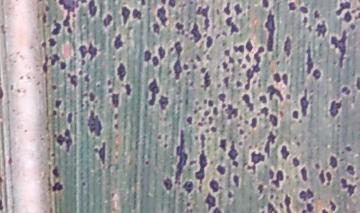tarspot: (173, 125, 188, 183), (245, 47, 264, 90), (329, 29, 348, 69), (263, 8, 277, 56), (85, 108, 105, 138), (50, 127, 75, 151), (171, 40, 183, 85), (92, 138, 110, 167), (247, 148, 264, 175), (60, 1, 78, 26), (146, 76, 159, 109), (193, 151, 208, 179), (298, 86, 311, 118), (197, 4, 211, 32), (265, 83, 285, 102), (78, 41, 99, 59), (340, 177, 358, 197), (113, 59, 129, 81), (328, 97, 344, 119), (281, 32, 294, 59), (241, 92, 256, 115), (263, 130, 276, 155), (268, 169, 285, 188), (304, 43, 314, 75), (297, 186, 317, 202), (224, 16, 239, 37), (189, 22, 201, 48), (117, 5, 131, 27), (224, 102, 241, 120), (47, 179, 65, 195), (111, 31, 124, 52), (314, 21, 328, 40), (227, 139, 240, 159), (49, 18, 62, 38), (208, 177, 223, 194), (87, 1, 99, 22), (157, 94, 170, 112), (232, 1, 245, 19), (332, 1, 350, 14), (157, 6, 168, 27), (327, 152, 339, 171), (343, 162, 358, 177), (297, 165, 310, 182), (283, 193, 294, 213), (343, 10, 357, 25), (109, 92, 122, 108), (101, 12, 114, 28), (200, 72, 212, 89), (203, 194, 217, 208), (264, 199, 278, 213), (214, 162, 227, 177), (230, 173, 243, 188), (248, 115, 260, 131), (122, 80, 133, 97), (279, 144, 290, 161), (203, 33, 214, 50), (182, 180, 195, 194), (173, 19, 186, 33), (132, 7, 144, 22), (67, 71, 78, 87), (270, 69, 281, 85), (255, 180, 265, 197), (56, 59, 69, 72), (231, 42, 245, 54), (161, 176, 172, 191), (268, 114, 279, 129), (47, 35, 58, 50), (301, 202, 316, 213), (157, 43, 166, 61), (328, 197, 338, 213), (49, 164, 61, 177), (51, 97, 63, 110), (285, 1, 298, 13), (150, 20, 161, 34), (86, 90, 97, 104), (312, 67, 323, 81), (340, 83, 351, 97), (290, 108, 300, 123), (296, 5, 311, 15), (317, 169, 325, 187), (290, 155, 301, 168), (256, 93, 267, 106), (222, 1, 232, 15), (218, 138, 228, 152), (245, 37, 253, 54), (65, 110, 74, 125), (142, 48, 151, 63), (81, 72, 93, 83), (217, 92, 229, 103), (233, 79, 245, 90), (260, 105, 270, 118), (343, 142, 353, 154), (282, 72, 290, 87), (229, 159, 241, 169), (184, 114, 194, 126), (221, 47, 231, 59), (325, 169, 332, 186), (150, 57, 159, 70), (220, 59, 229, 72), (204, 97, 216, 106), (209, 124, 219, 134), (211, 106, 221, 115), (260, 1, 272, 8), (212, 206, 224, 213), (182, 61, 189, 72), (168, 1, 177, 9)
